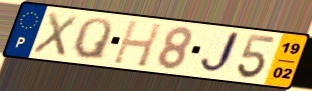5: (235, 32, 279, 81)
8: (155, 25, 195, 71)
H: (110, 18, 165, 69)
J: (197, 29, 243, 77)
Q: (70, 16, 115, 63)
X: (30, 11, 81, 59)
